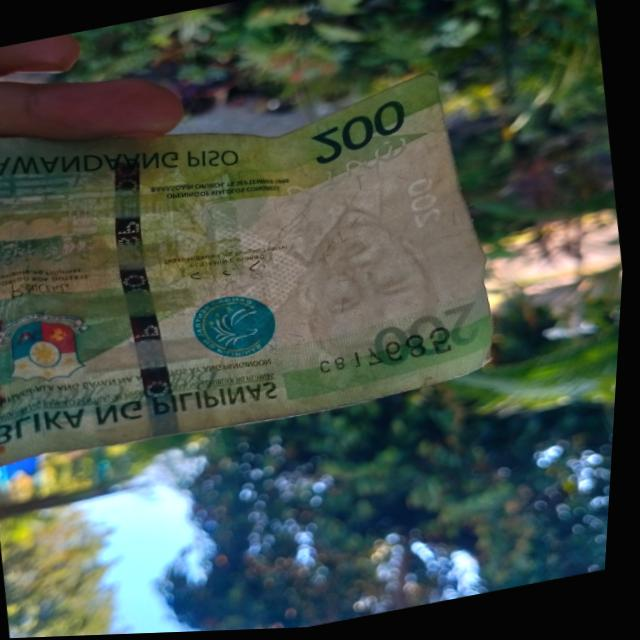security_thread: (93, 133, 197, 443)
see_through_mark: (267, 134, 416, 212)
serial_number: (307, 320, 471, 387)
value_watermark: (406, 170, 455, 240)
watermark: (251, 167, 452, 384)
